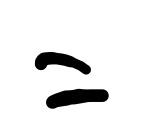eqv: (35, 52, 109, 109)
